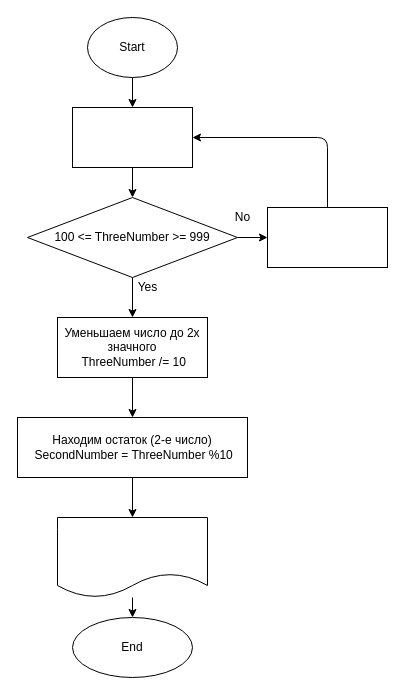
Image size: 405x695. Some labels were removed from this diagram. The centre of each missing label's shape, as x and y in pixels:
"print SecondNumber" belongs at (132,557).
"Ввод числа ThreeNumber с консоли" belongs at (132,137).
"Ошибка" belongs at (327,237).
